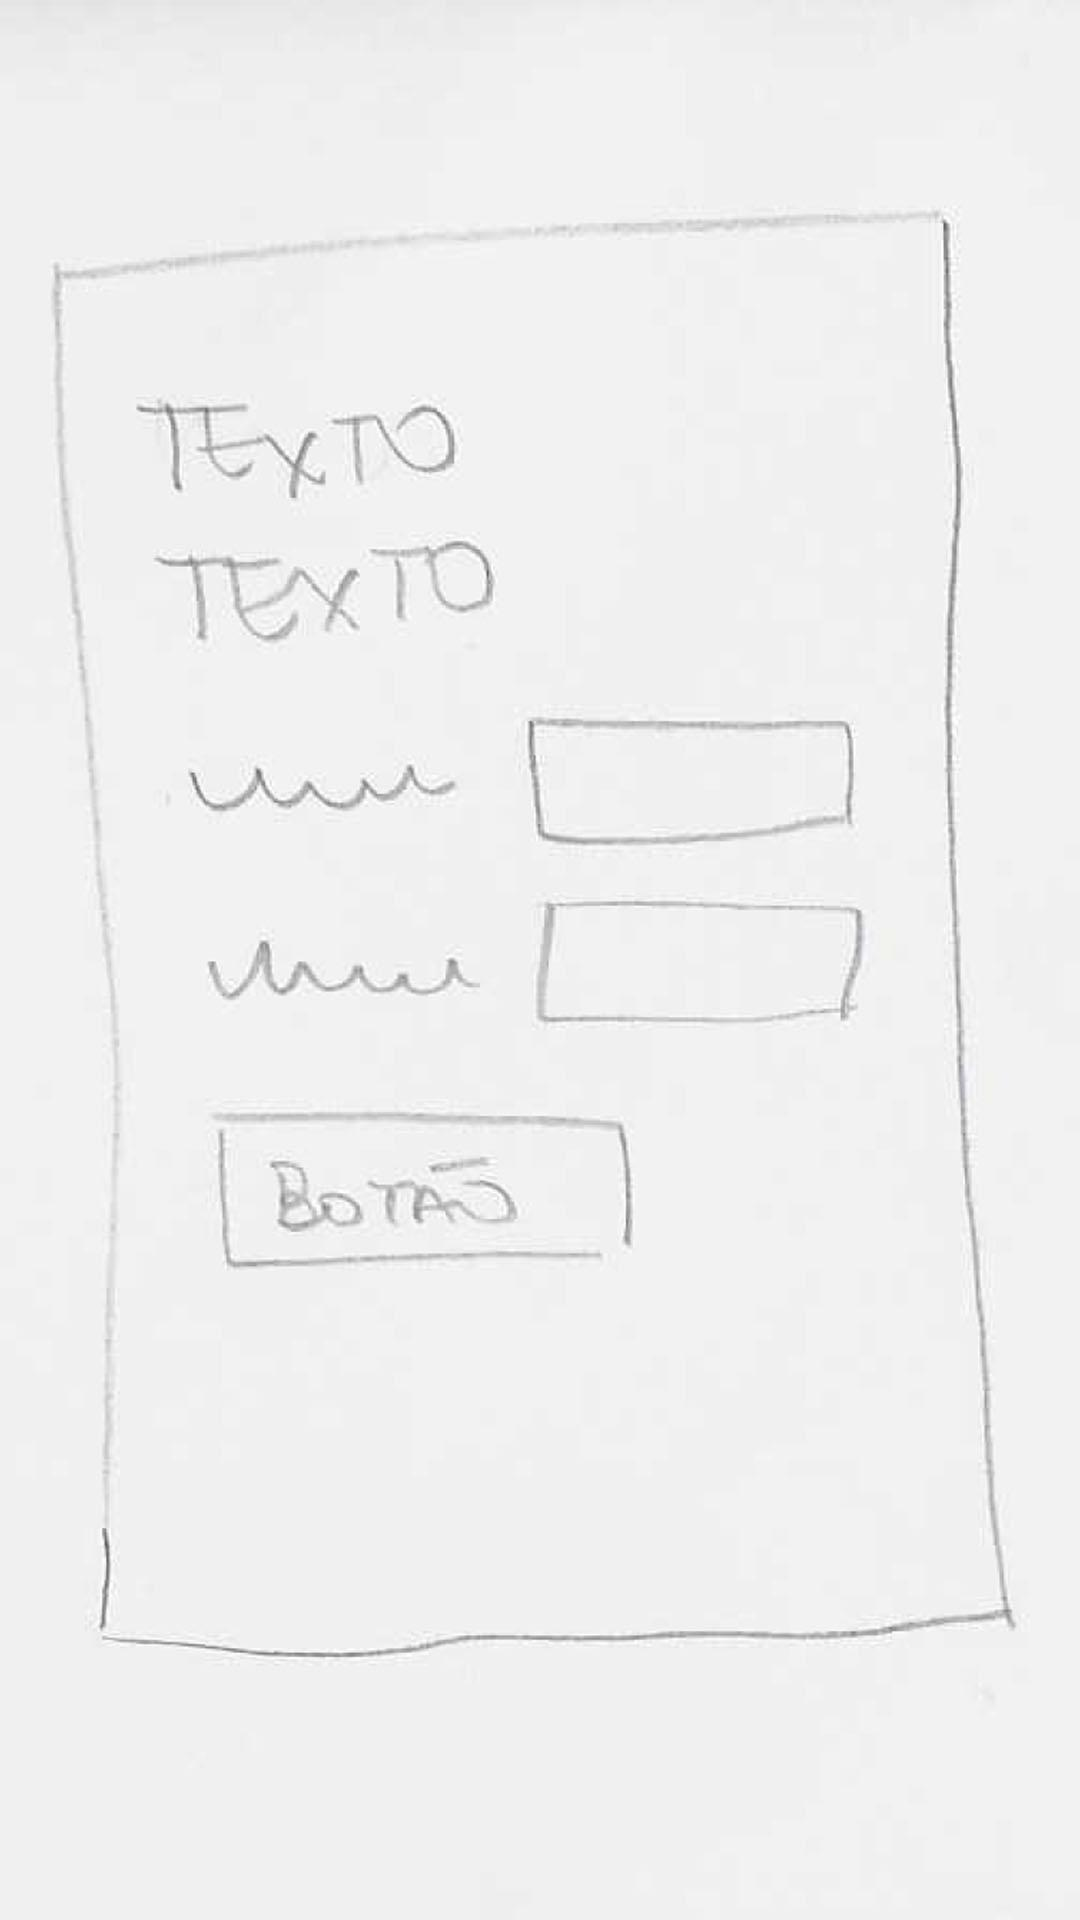Button: (216, 1113, 632, 1266)
Label: (154, 542, 497, 645), (136, 398, 459, 502), (182, 756, 463, 820), (203, 940, 483, 1001)
Screen: (55, 212, 1013, 1659)
TextBox: (529, 717, 856, 844), (534, 902, 864, 1025)
